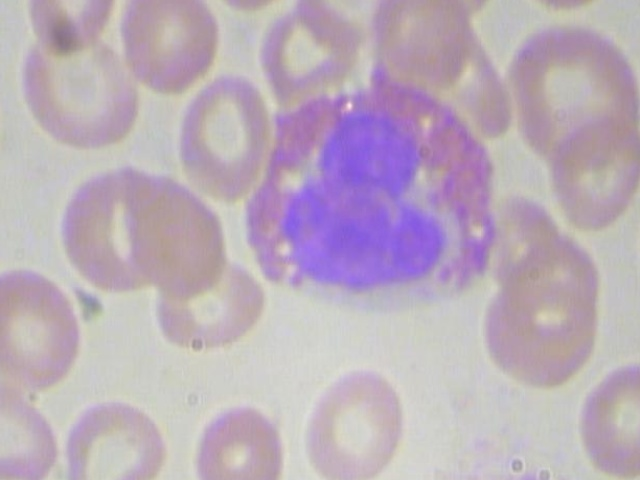RBC: (162, 66, 285, 211), (15, 28, 145, 150), (293, 362, 410, 480), (0, 260, 95, 401), (129, 169, 230, 296), (542, 101, 640, 228), (182, 383, 299, 480), (114, 0, 230, 97), (55, 391, 172, 480), (572, 348, 640, 480), (6, 0, 128, 59)
WBC: (236, 82, 511, 306)
